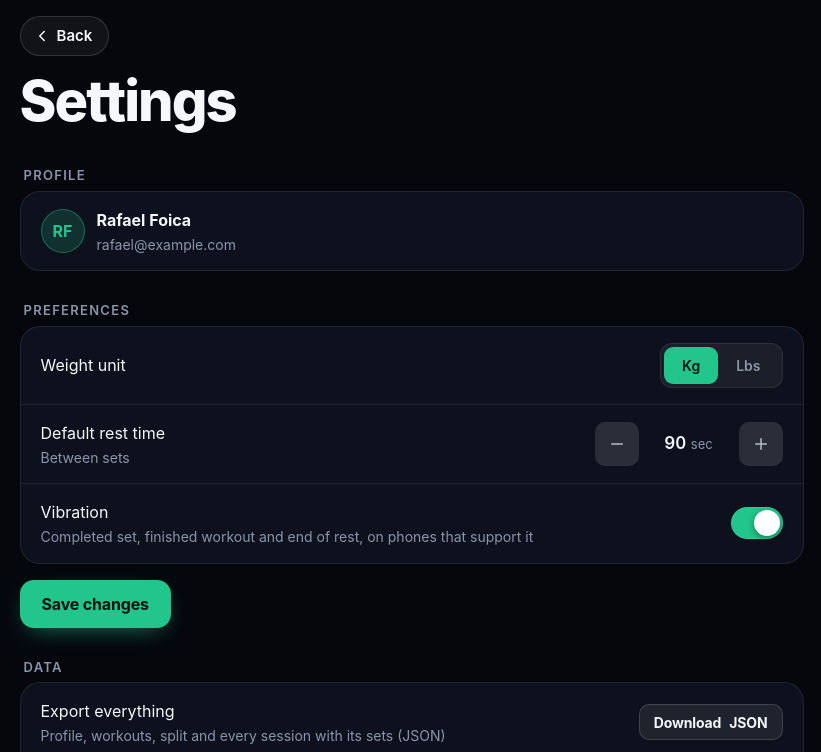
Test: SettingsPage › saves the changed unit and rest time and stays on the page
Expected: the heading "Settings" is shown, left=20, top=67, right=236, bottom=135
Click the radio button labelled "Lbs" at x=748, y=365, box left=718, top=347, right=778, bottom=384
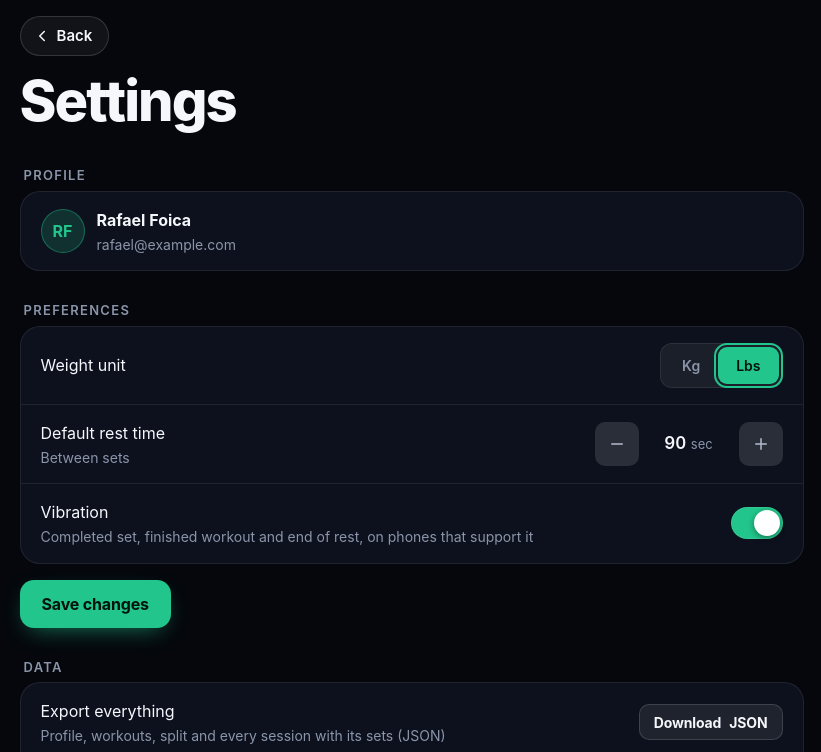
Click the button named "Increase rest time" at x=760, y=444, box left=738, top=422, right=782, bottom=466
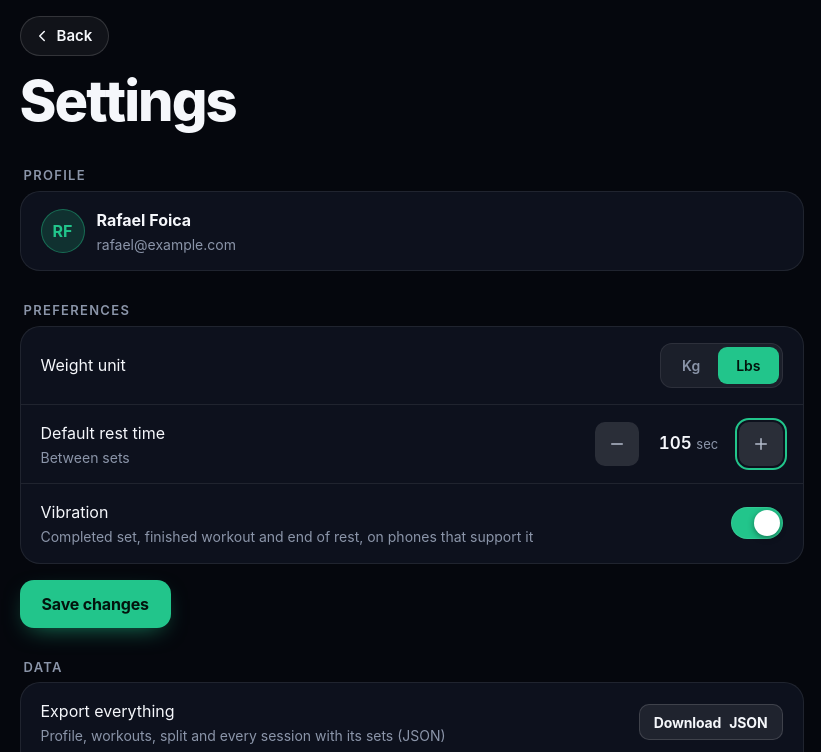
Click the button named "Increase rest time" at x=760, y=444, box left=738, top=422, right=782, bottom=466
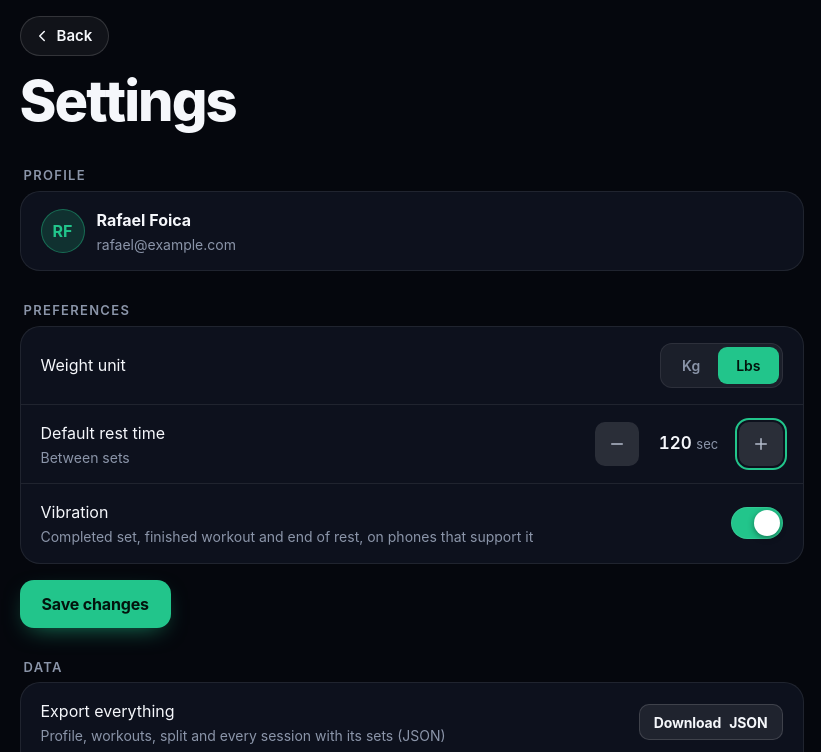
Click the button named "Decrease rest time" at x=616, y=444, box left=594, top=422, right=638, bottom=466
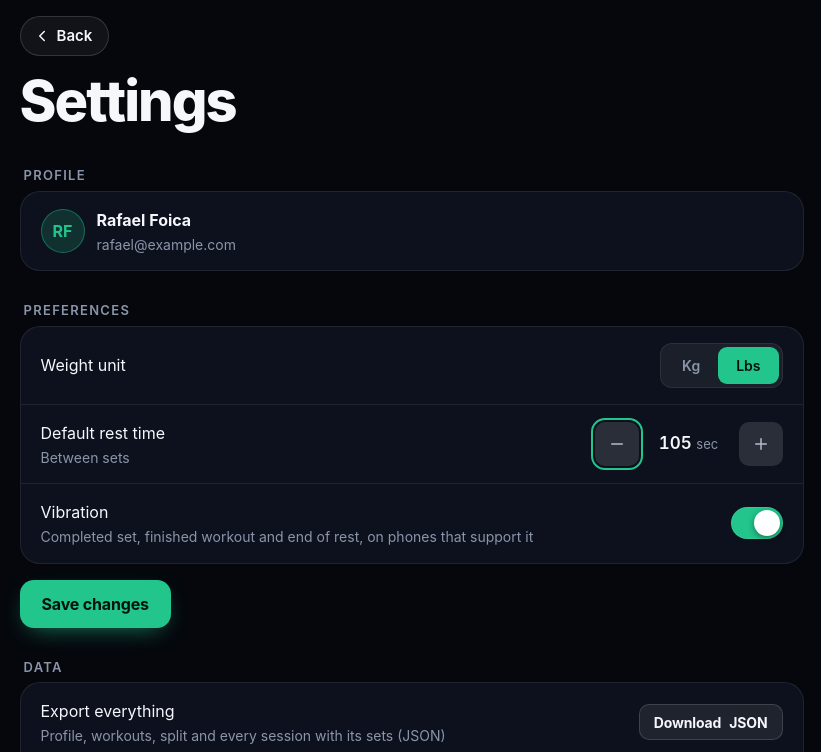
Click the button "Save changes" at x=95, y=604, box left=20, top=580, right=171, bottom=628
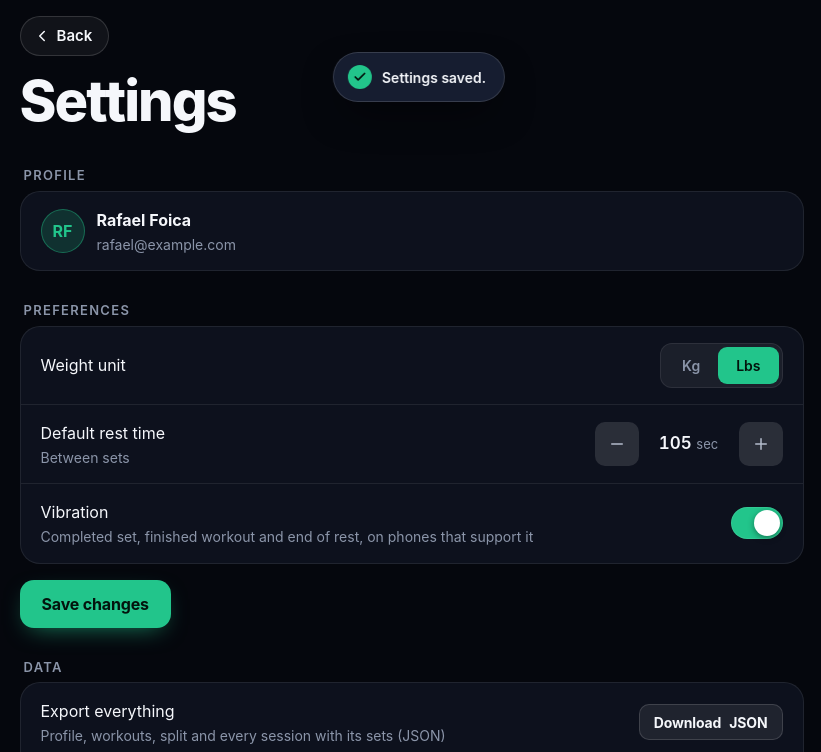
Expected: the heading "Settings" is shown, left=20, top=67, right=236, bottom=135
Expected: the text "Settings saved." is shown, left=333, top=52, right=505, bottom=102
